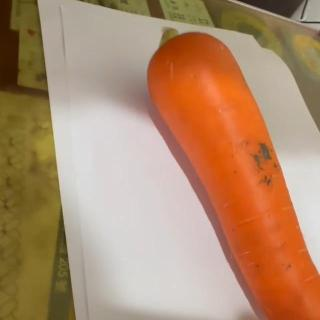carrot: (146, 27, 320, 320)
